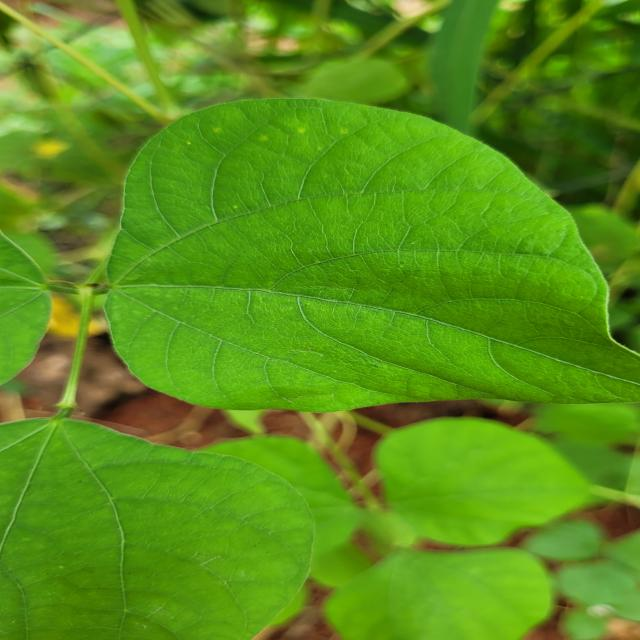Dolicos bean_healthy: (93, 92, 640, 413), (1, 418, 314, 640), (356, 418, 632, 543), (322, 548, 567, 640)
